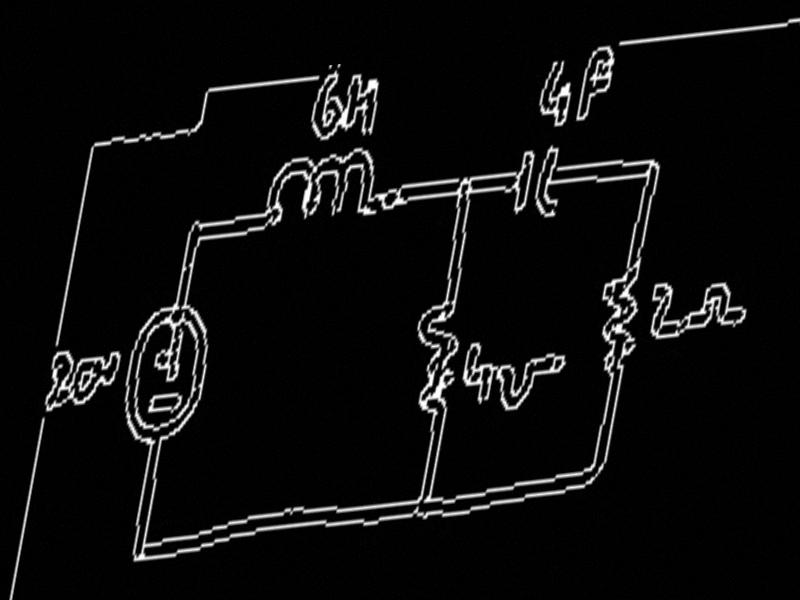-: (143, 388, 186, 418)
0: (67, 350, 111, 408)
2: (635, 276, 692, 344), (42, 345, 80, 414)
4: (530, 55, 580, 136), (453, 336, 501, 411)
6: (304, 68, 353, 146)
F: (570, 43, 622, 126)
V: (487, 348, 571, 415)
k: (337, 67, 386, 145)
